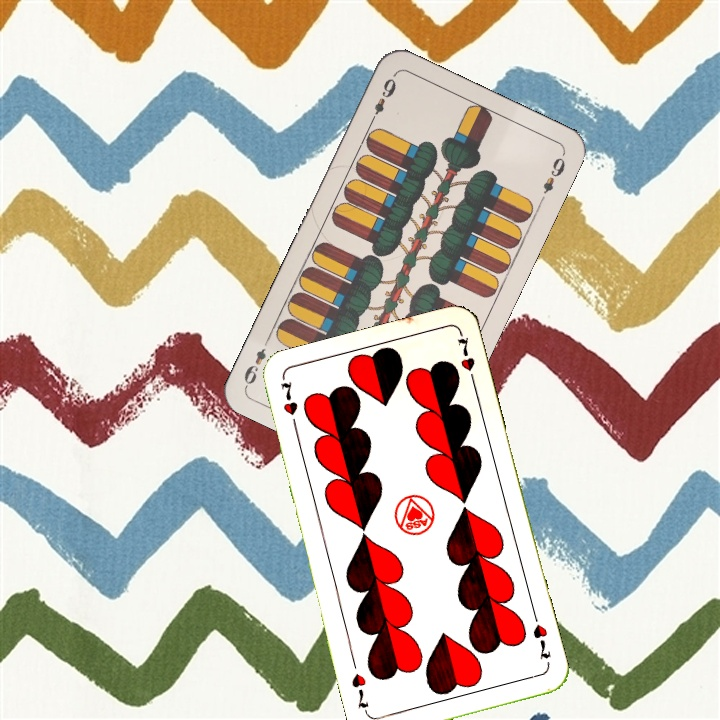E9: (365, 74, 399, 127)
H7: (528, 609, 554, 662), (277, 377, 300, 434)
